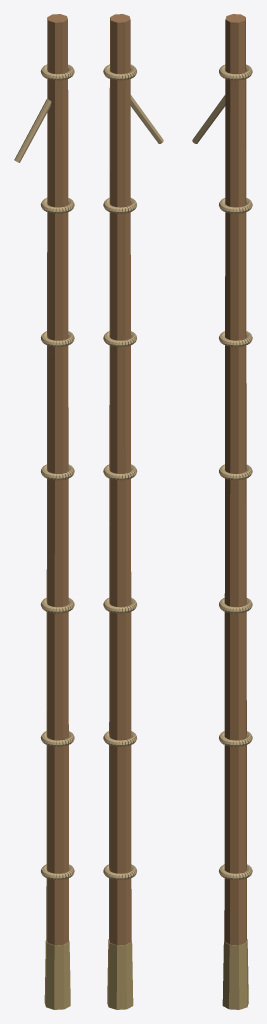
3 views of the same model, side by side, from view 1: azimuth 30°, elevation 25°; view 2: azimuth 210°, elevation 25°; view 3: azimuth 330°, elevation 25° (orthographic).
Parts seen in each view (by area): view 1: CE-049 Bound-interval harbor depth pole batched; view 2: CE-049 Bound-interval harbor depth pole batched; view 3: CE-049 Bound-interval harbor depth pole batched.
Part boxes in pixels (<box>): CE-049 Bound-interval harbor depth pole batched: <box>14,14,74,1009</box>; CE-049 Bound-interval harbor depth pole batched: <box>103,14,163,1009</box>; CE-049 Bound-interval harbor depth pole batched: <box>192,14,252,1009</box>.
Size of the model in its own units: 0.1135 by 1.85 by 0.0579.
